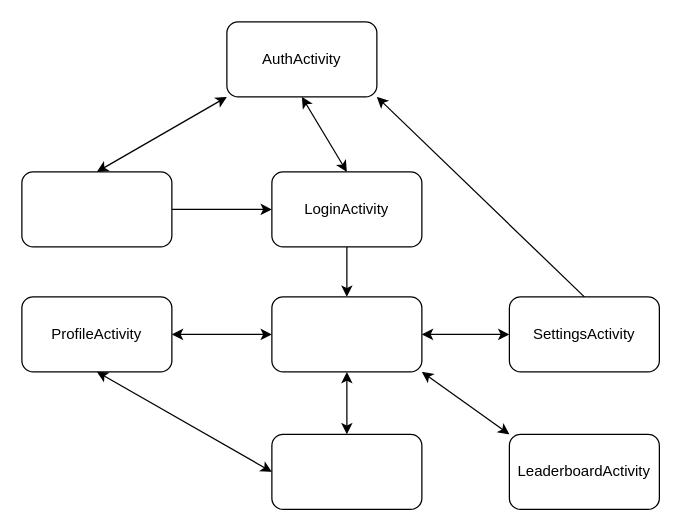
This 681x531 diagram has some shape labels left out. The centre of each missing label's shape, as x and y in pixels:
"GameActivity" goes at (346,471).
"MainActivity" goes at (346,334).
"RegisterActivity" goes at (96,209).
